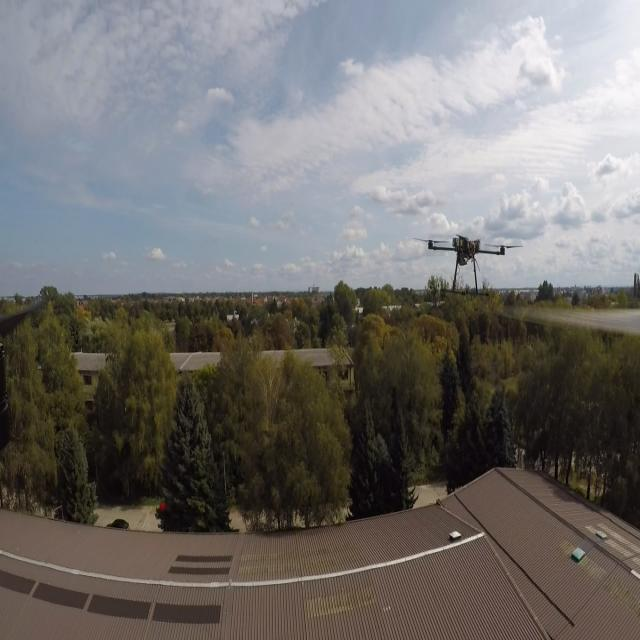UAV: (412, 235, 524, 297)
